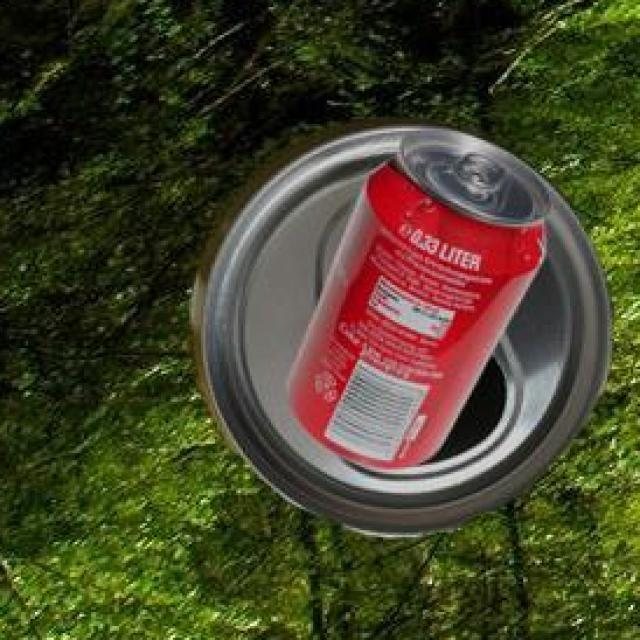logam: (193, 123, 615, 541), (288, 134, 555, 473)
